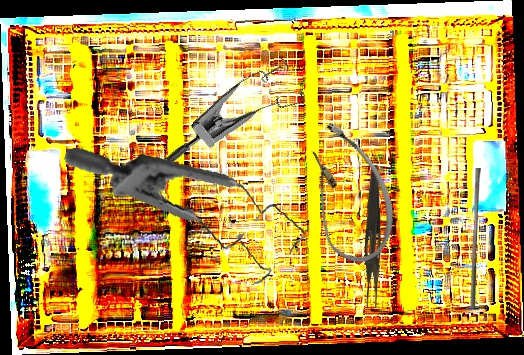Cannula: (281, 113, 412, 273)
Dressing Forceps: (363, 164, 383, 309)
Pusher: (470, 168, 481, 308)
Speculum: (63, 121, 313, 306), (165, 39, 316, 204)
